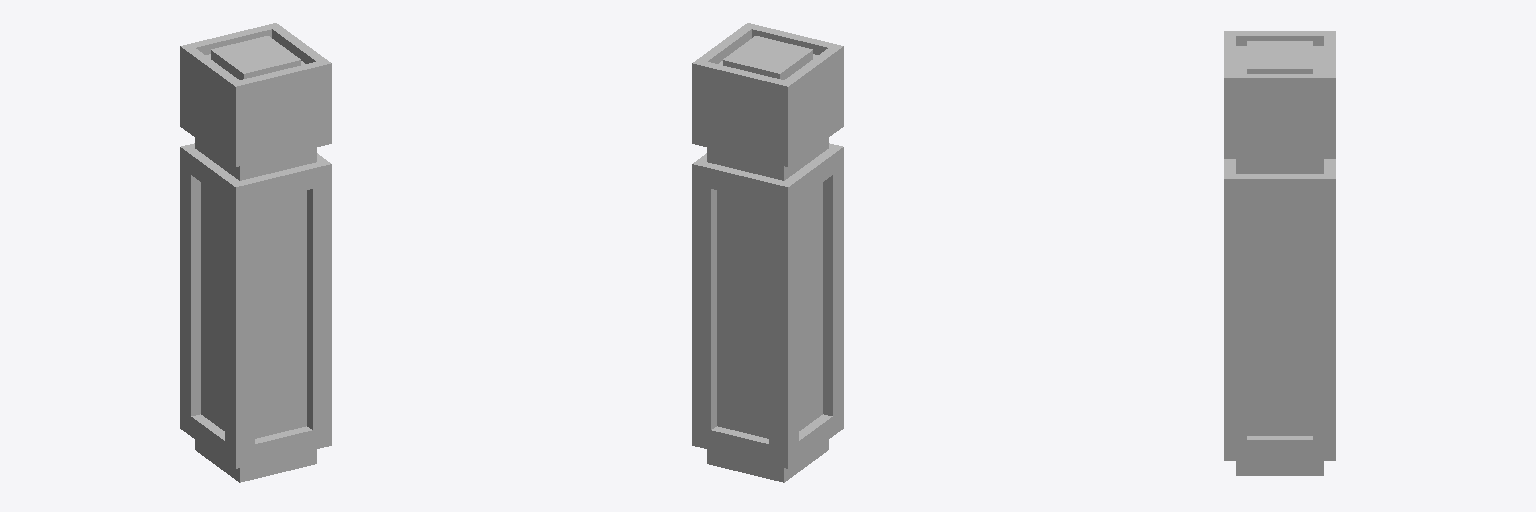
File: low_buildingJ.obj
The picture shows the model from 3 angles: view 1: azimuth 30°, elevation 25°; view 2: azimuth 150°, elevation 25°; view 3: azimuth 270°, elevation 25°; orthographic projection.
Parts seen in each view (by area): view 1: low_buildingJ; view 2: low_buildingJ; view 3: low_buildingJ.
Part boxes in pixels (bbox=[...]): low_buildingJ: bbox=[180, 23, 331, 482]; low_buildingJ: bbox=[692, 23, 843, 482]; low_buildingJ: bbox=[1224, 31, 1335, 475].
Bounding box in the file's own units: 0.5 × 2 × 0.5.